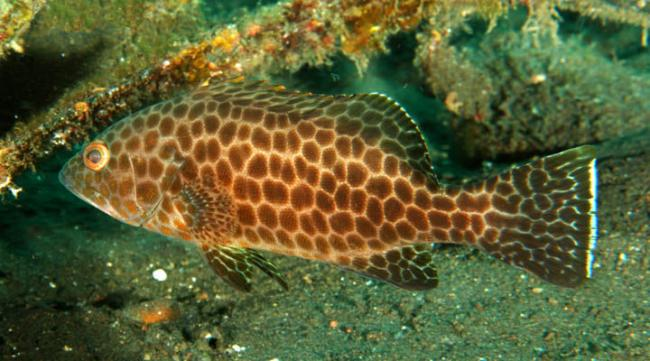fish: (58, 75, 599, 294)
